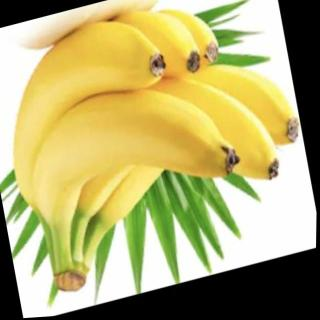banana: (33, 43, 292, 269), (10, 0, 244, 223), (4, 0, 226, 229), (64, 42, 310, 240), (0, 4, 190, 219), (16, 63, 245, 241)
